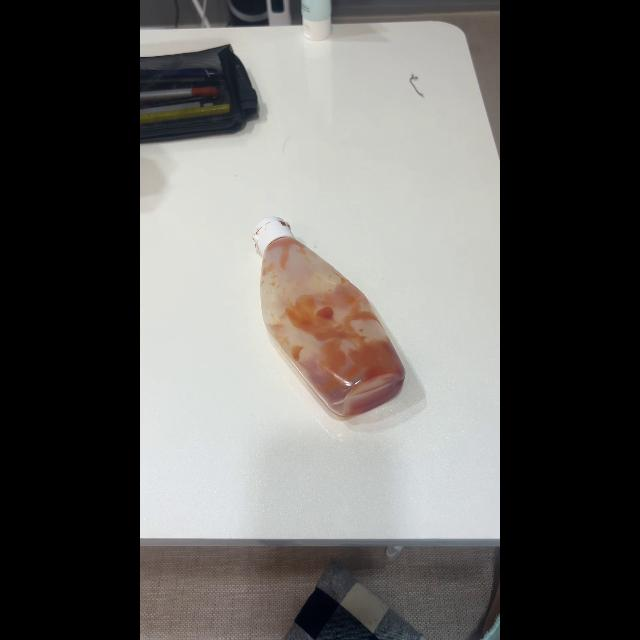dirty: (257, 216, 405, 424)
